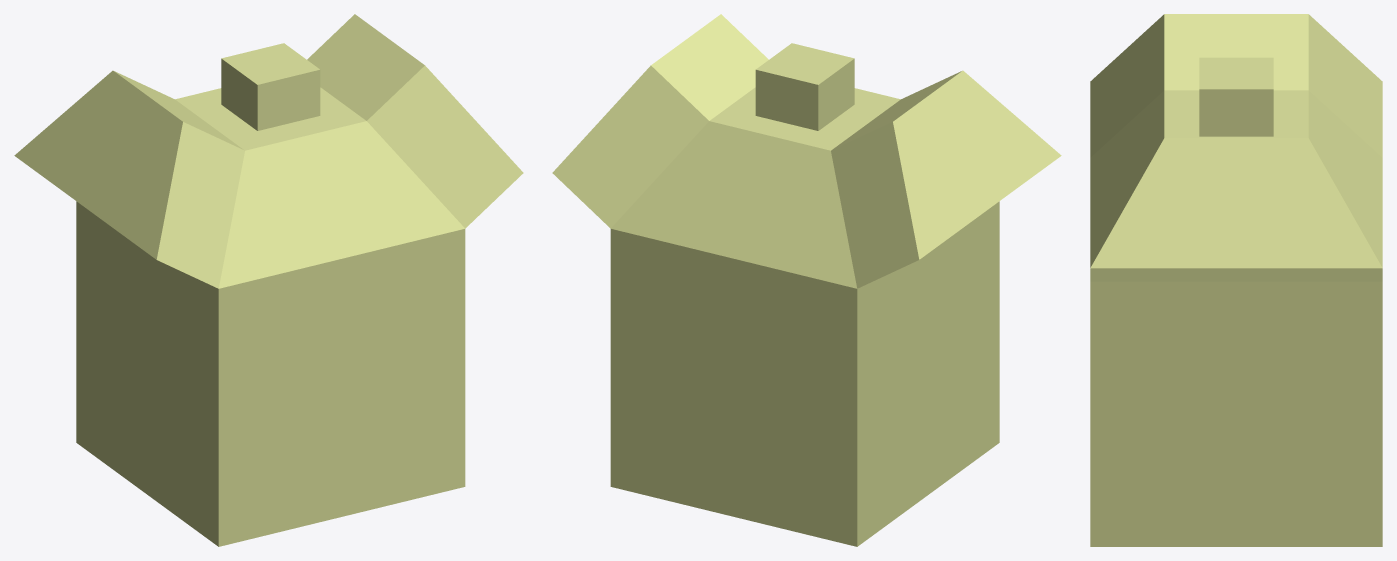
3 views of the same model, side by side, from view 1: azimuth 30°, elevation 25°; view 2: azimuth 150°, elevation 25°; view 3: azimuth 270°, elevation 25° (orthographic). The views are drawn at different scales.
Visible parts, largest first — view 1: Cube; view 2: Cube; view 3: Cube.
Boxes of the visible parts, box(x1,y1,x2,y2) form: Cube: box(14, 14, 523, 546); Cube: box(552, 14, 1061, 546); Cube: box(1090, 14, 1382, 546).
Bounding box in the file's own units: 2.98 × 3.11 × 2.
